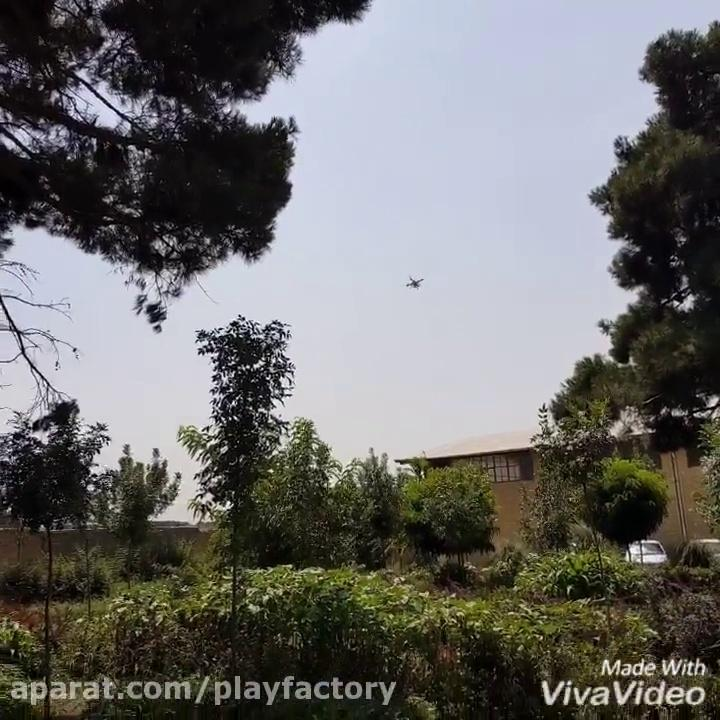drone: (402, 268, 429, 294)
